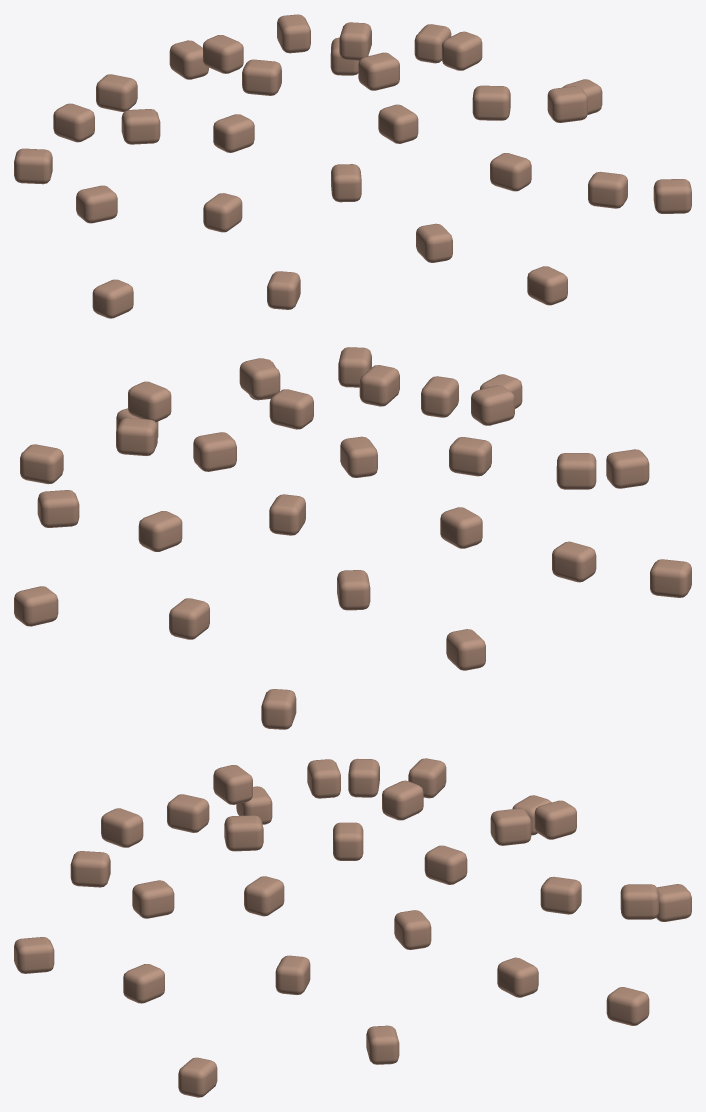
Rendered from Cookie_crumbs_serving_layer.fbx.
3 views of the same model, one above another, from view 1: azimuth 30°, elevation 25°; view 2: azimuth 150°, elevation 25°; view 3: azimuth 270°, elevation 25° (orthographic). The views are drawn at different scales.
Parts seen in each view (by area): view 1: Toon_Cookie_crumbs_serving_layer Crumb.028, Toon_Cookie_crumbs_serving_layer Crumb.045, Toon_Cookie_crumbs_serving_layer Crumb.038, Toon_Cookie_crumbs_serving_layer Crumb.055, Toon_Cookie_crumbs_serving_layer Crumb.032, Toon_Cookie_crumbs_serving_layer Crumb.042, Toon_Cookie_crumbs_serving_layer Crumb.053, Toon_Cookie_crumbs_serving_layer Crumb.041, Toon_Cookie_crumbs_serving_layer Crumb.036, Toon_Cookie_crumbs_serving_layer Crumb.051, Toon_Cookie_crumbs_serving_layer Crumb.034, Toon_Cookie_crumbs_serving_layer Crumb.029 (+16 smaller); view 2: Toon_Cookie_crumbs_serving_layer Crumb.028, Toon_Cookie_crumbs_serving_layer Crumb.045, Toon_Cookie_crumbs_serving_layer Crumb.052, Toon_Cookie_crumbs_serving_layer Crumb.048, Toon_Cookie_crumbs_serving_layer Crumb.031, Toon_Cookie_crumbs_serving_layer Crumb.039, Toon_Cookie_crumbs_serving_layer Crumb.049, Toon_Cookie_crumbs_serving_layer Crumb.035, Toon_Cookie_crumbs_serving_layer Crumb.032, Toon_Cookie_crumbs_serving_layer Crumb.044, Toon_Cookie_crumbs_serving_layer Crumb.037, Toon_Cookie_crumbs_serving_layer Crumb.053 (+14 smaller); view 3: Toon_Cookie_crumbs_serving_layer Crumb.031, Toon_Cookie_crumbs_serving_layer Crumb.052, Toon_Cookie_crumbs_serving_layer Crumb.038, Toon_Cookie_crumbs_serving_layer Crumb.042, Toon_Cookie_crumbs_serving_layer Crumb.048, Toon_Cookie_crumbs_serving_layer Crumb.035, Toon_Cookie_crumbs_serving_layer Crumb.039, Toon_Cookie_crumbs_serving_layer Crumb.034, Toon_Cookie_crumbs_serving_layer Crumb.046, Toon_Cookie_crumbs_serving_layer Crumb.029, Toon_Cookie_crumbs_serving_layer Crumb.044, Toon_Cookie_crumbs_serving_layer Crumb.051 (+15 smaller).
Part boxes in pixels (<box>): Toon_Cookie_crumbs_serving_layer Crumb.028: <box>358,52,399,90</box>; Toon_Cookie_crumbs_serving_layer Crumb.045: <box>76,185,117,223</box>; Toon_Cookie_crumbs_serving_layer Crumb.038: <box>490,153,531,191</box>; Toon_Cookie_crumbs_serving_layer Crumb.055: <box>53,103,94,142</box>; Toon_Cookie_crumbs_serving_layer Crumb.032: <box>213,114,254,152</box>; Toon_Cookie_crumbs_serving_layer Crumb.042: <box>96,74,137,111</box>; Toon_Cookie_crumbs_serving_layer Crumb.053: <box>92,279,133,318</box>; Toon_Cookie_crumbs_serving_layer Crumb.041: <box>547,86,587,122</box>; Toon_Cookie_crumbs_serving_layer Crumb.036: <box>441,31,482,70</box>; Toon_Cookie_crumbs_serving_layer Crumb.051: <box>527,266,567,305</box>; Toon_Cookie_crumbs_serving_layer Crumb.034: <box>203,35,243,73</box>; Toon_Cookie_crumbs_serving_layer Crumb.029: <box>242,59,281,95</box>; Toon_Cookie_crumbs_serving_layer Crumb.028: <box>269,389,313,429</box>; Toon_Cookie_crumbs_serving_layer Crumb.045: <box>552,541,596,582</box>; Toon_Cookie_crumbs_serving_layer Crumb.052: <box>14,586,58,626</box>; Toon_Cookie_crumbs_serving_layer Crumb.048: <box>606,449,649,488</box>; Toon_Cookie_crumbs_serving_layer Crumb.031: <box>193,432,236,471</box>; Toon_Cookie_crumbs_serving_layer Crumb.039: <box>138,511,182,551</box>; Toon_Cookie_crumbs_serving_layer Crumb.049: <box>20,444,63,484</box>; Toon_Cookie_crumbs_serving_layer Crumb.035: <box>471,385,514,425</box>; Toon_Cookie_crumbs_serving_layer Crumb.032: <box>449,437,491,476</box>; Toon_Cookie_crumbs_serving_layer Crumb.044: <box>37,490,79,527</box>; Toon_Cookie_crumbs_serving_layer Crumb.037: <box>440,507,482,548</box>; Toon_Cookie_crumbs_serving_layer Crumb.053: <box>650,559,691,597</box>; Toon_Cookie_crumbs_serving_layer Crumb.031: <box>424,845,467,884</box>; Toon_Cookie_crumbs_serving_layer Crumb.052: <box>606,987,649,1025</box>; Toon_Cookie_crumbs_serving_layer Crumb.038: <box>132,880,174,918</box>; Toon_Cookie_crumbs_serving_layer Crumb.042: <box>534,800,576,839</box>; Toon_Cookie_crumbs_serving_layer Crumb.048: <box>101,808,143,847</box>; Toon_Cookie_crumbs_serving_layer Crumb.035: <box>167,794,209,832</box>; Toon_Cookie_crumbs_serving_layer Crumb.039: <box>540,876,581,914</box>; Toon_Cookie_crumbs_serving_layer Crumb.034: <box>490,808,531,845</box>; Toon_Cookie_crumbs_serving_layer Crumb.046: <box>123,964,164,1003</box>; Toon_Cookie_crumbs_serving_layer Crumb.029: <box>382,780,423,820</box>; Toon_Cookie_crumbs_serving_layer Crumb.044: <box>497,957,538,997</box>; Toon_Cookie_crumbs_serving_layer Crumb.051: <box>14,937,54,973</box>.
Size of the model in its own units: 8.78 by 2.35 by 8.92.
